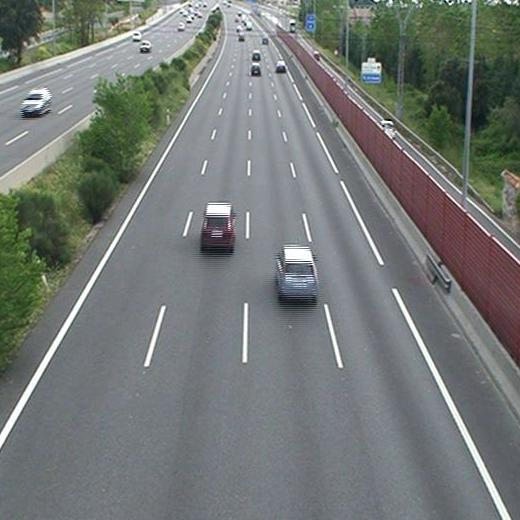car: (276, 247, 316, 298), (201, 204, 234, 247), (276, 61, 287, 71), (250, 65, 261, 74), (251, 51, 261, 60)
